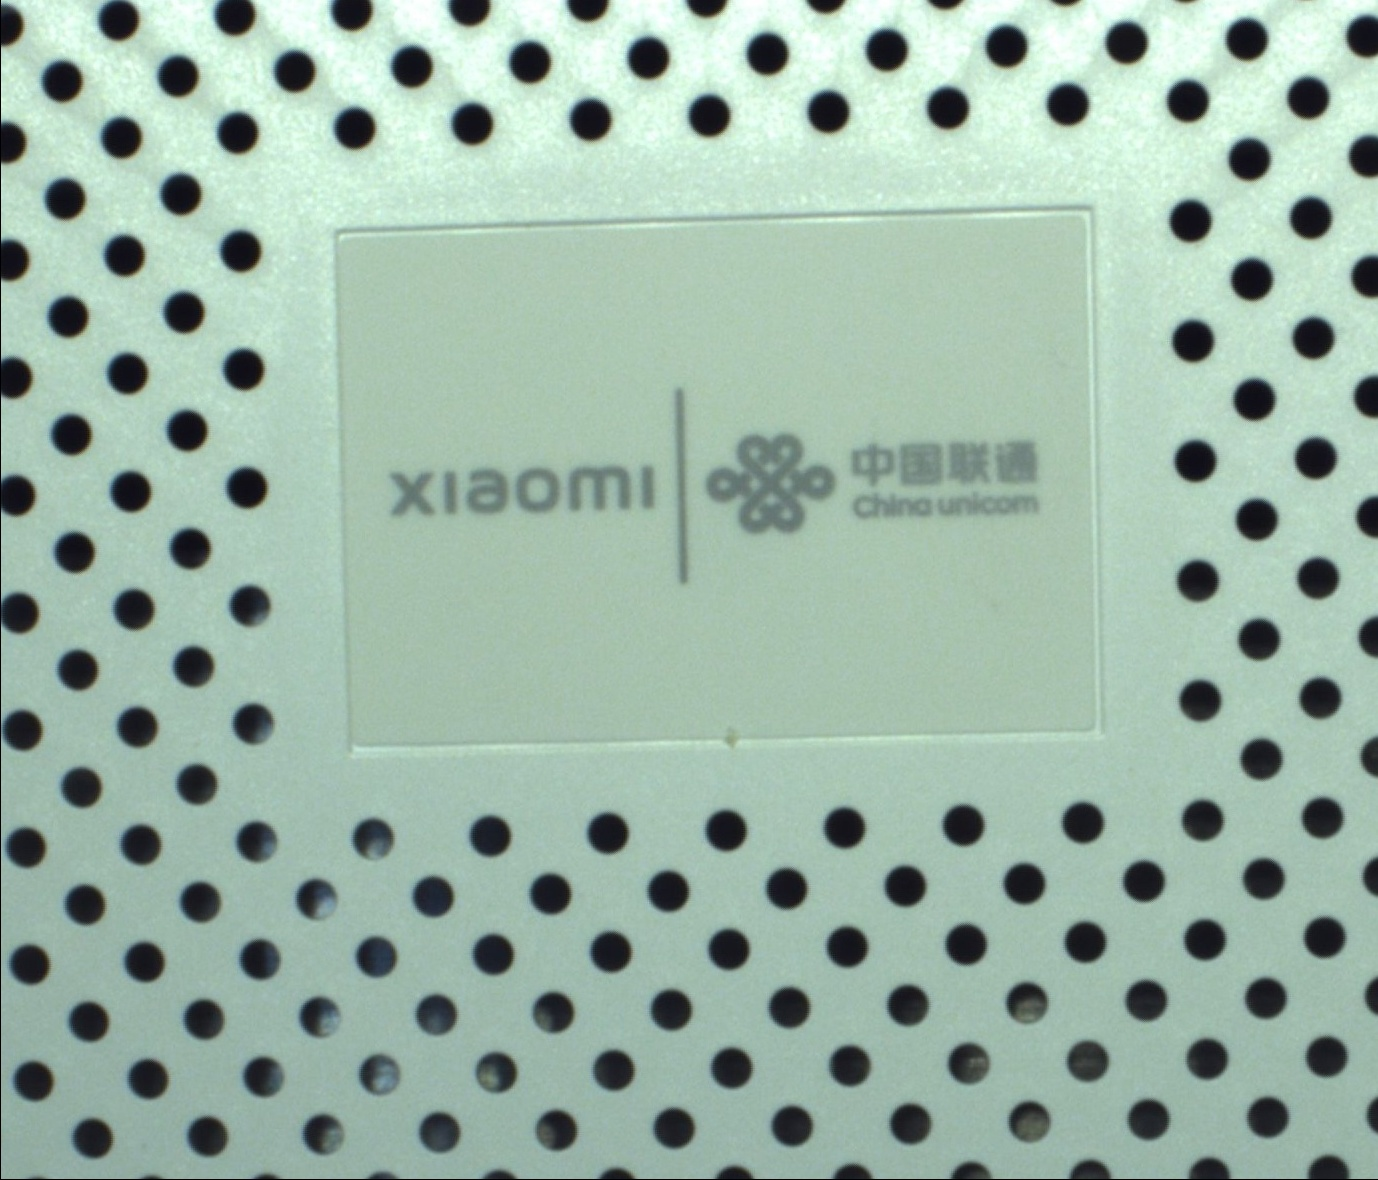MAC_NewUnicom: (379, 376, 1047, 572)
